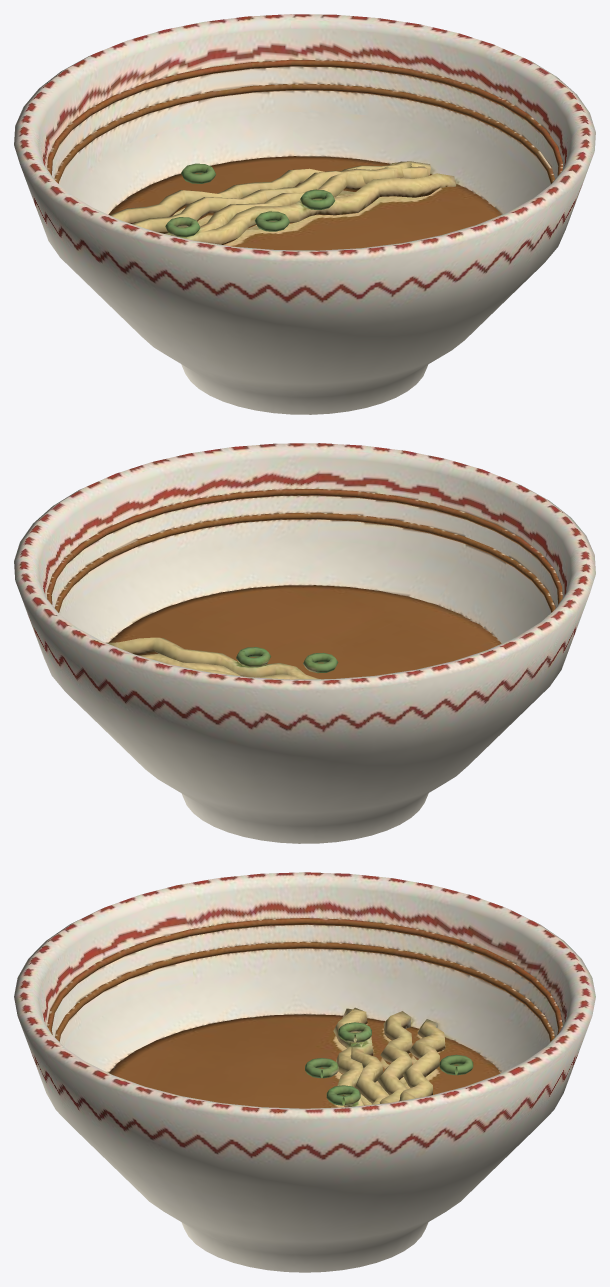
Rendered from ramen_shoyu_b2.glb.
3 views of the same model, one above another, from view 1: azimuth 30°, elevation 25°; view 2: azimuth 150°, elevation 25°; view 3: azimuth 270°, elevation 25° (orthographic).
Parts seen in each view (by area): view 1: prop_ramen_shoyu_b2_felt; view 2: prop_ramen_shoyu_b2_felt; view 3: prop_ramen_shoyu_b2_felt.
Boxes of the visible parts, left/top/right/bottom form: prop_ramen_shoyu_b2_felt: left=14, top=14, right=595, bottom=414; prop_ramen_shoyu_b2_felt: left=14, top=443, right=595, bottom=843; prop_ramen_shoyu_b2_felt: left=14, top=872, right=595, bottom=1272.
Size of the model in its own units: 0.3 by 0.1305 by 0.3.
Materials: 1 (1 with a texture image).
